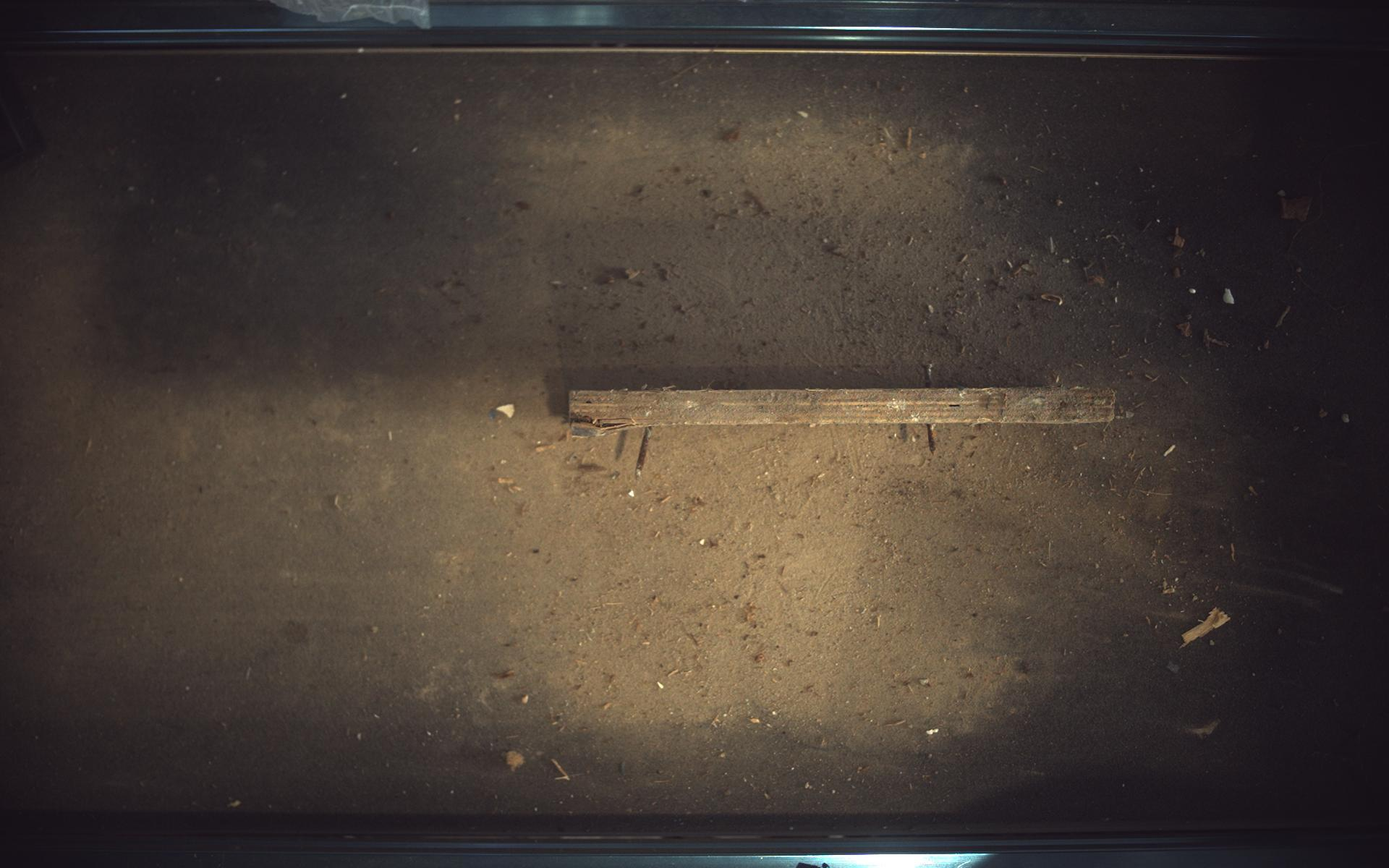wood: (569, 387, 1118, 435)
